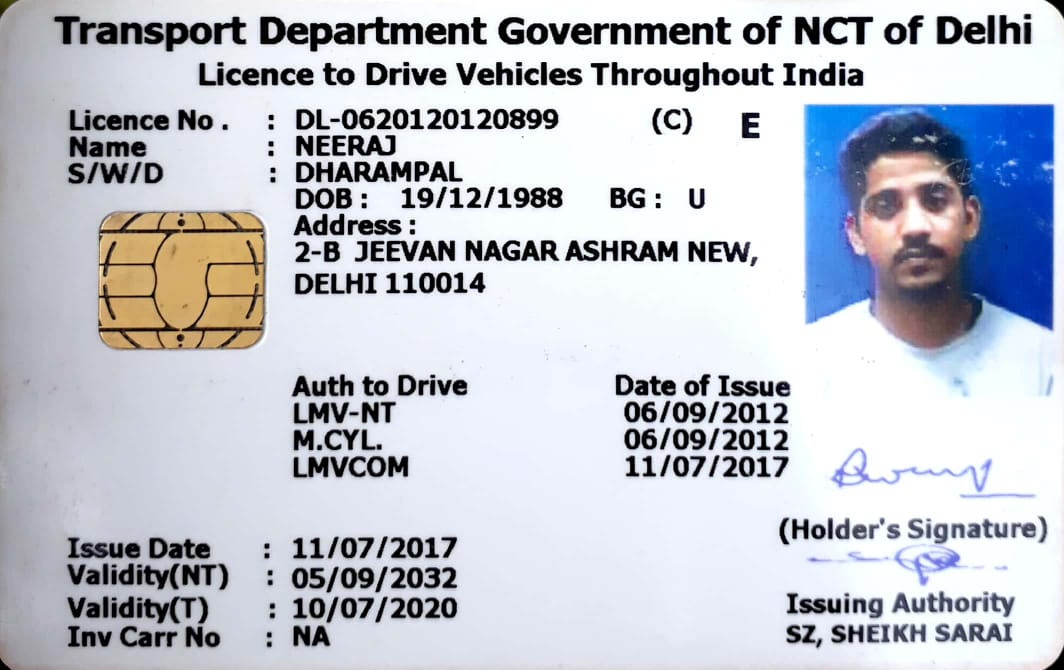text: (67, 105, 561, 133), (67, 156, 468, 186), (294, 184, 568, 213), (66, 134, 403, 157)
